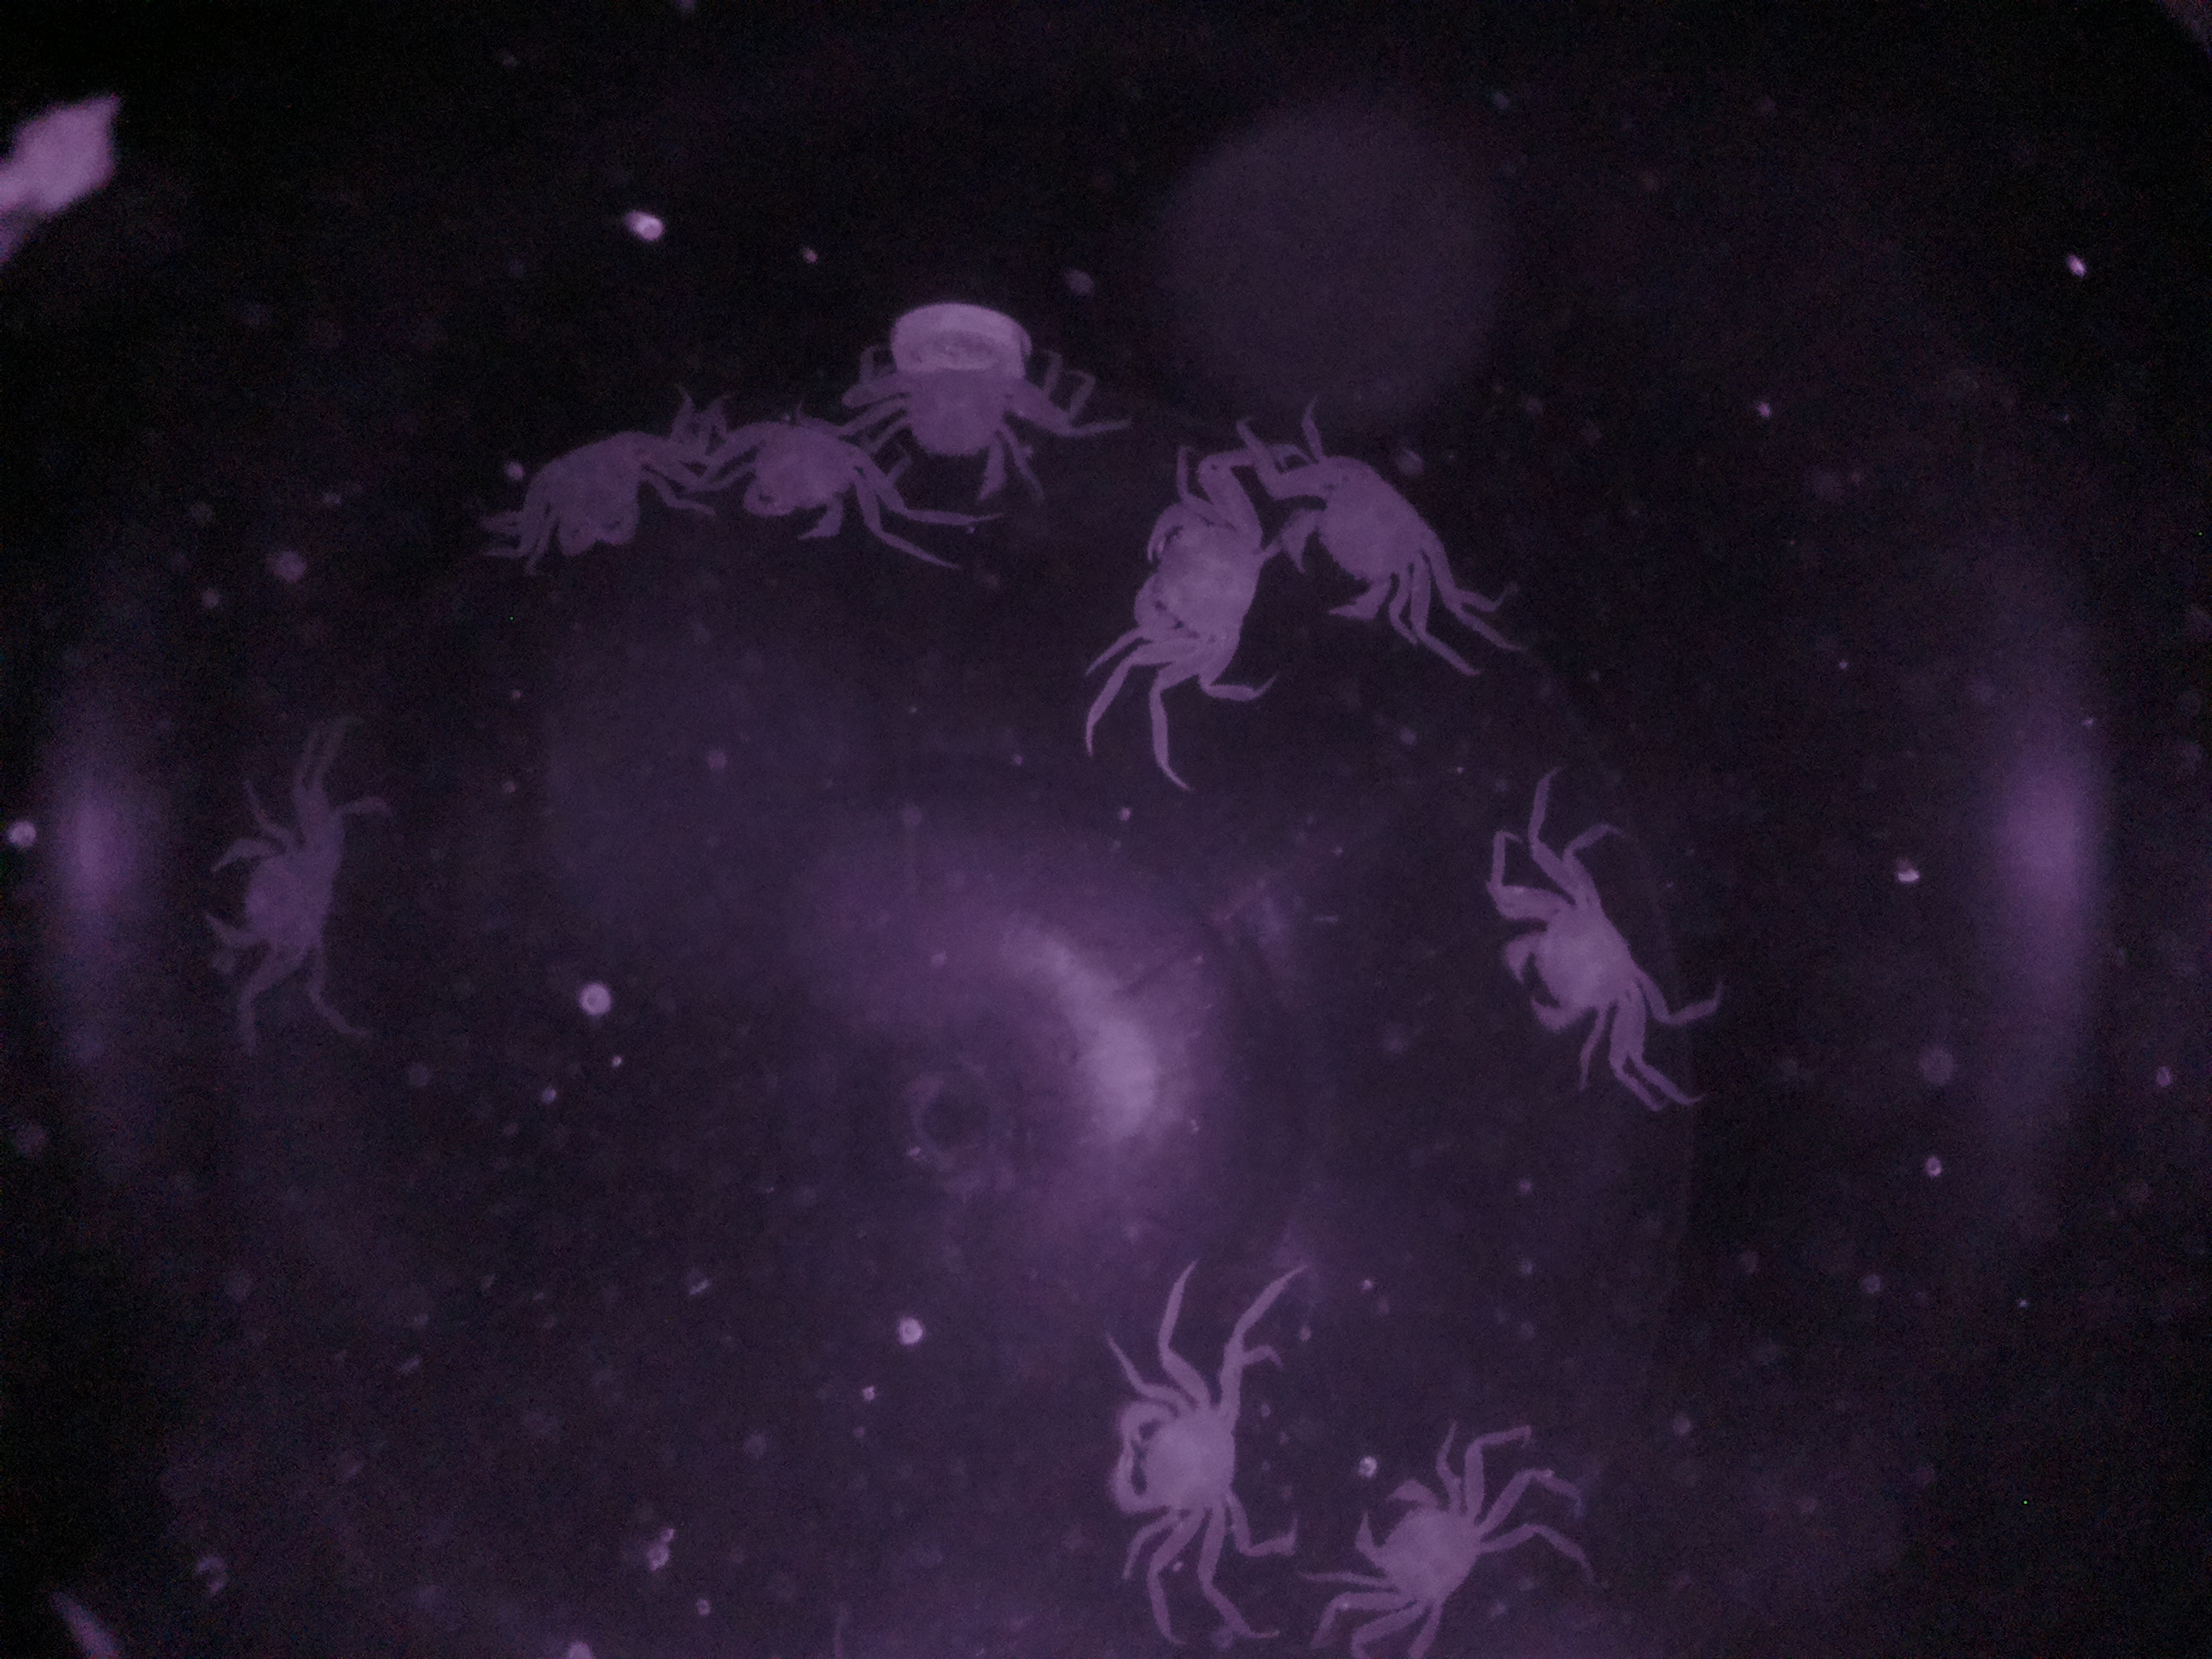Crab: (1080, 1326, 1266, 1568), (1487, 843, 1663, 1079), (1332, 1436, 1526, 1642), (1266, 434, 1453, 645), (1127, 443, 1266, 706), (202, 777, 348, 1007)
